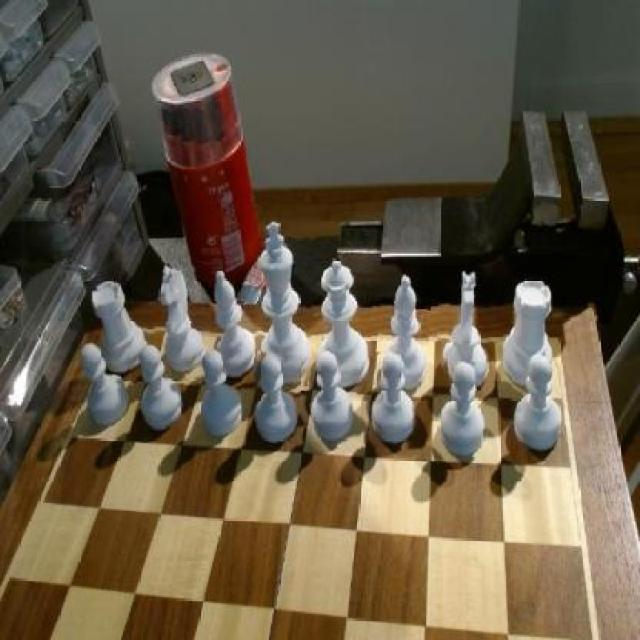black-rook: (377, 265, 432, 397), (209, 266, 261, 383)
white-bishop: (256, 217, 314, 385)
white-king: (437, 268, 492, 400), (153, 264, 204, 378)
white-knight: (438, 362, 489, 459), (512, 357, 564, 450), (371, 354, 419, 450), (80, 337, 132, 425), (252, 352, 300, 444), (197, 349, 243, 443), (135, 342, 184, 430), (311, 356, 357, 448)
white-pawn: (317, 260, 371, 395)
white-queen: (503, 280, 561, 394), (94, 278, 149, 376)
